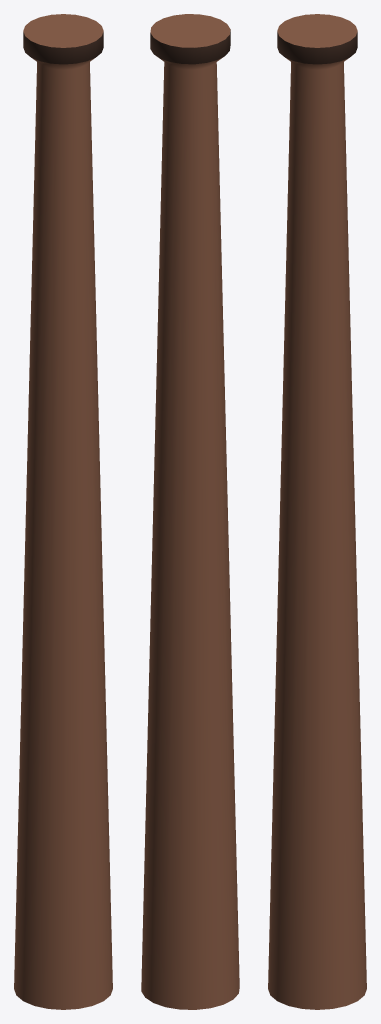
Rendered from vapor4.fbx.
3 views of the same model, side by side, from view 1: azimuth 90°, elevation 25°; view 2: azimuth 150°, elevation 25°; view 3: azimuth 270°, elevation 25° (orthographic).
Parts seen in each view (by area): view 1: pCylinder12; view 2: pCylinder12; view 3: pCylinder12.
Part boxes in pixels (box(x1,y1,x2,y2)): pCylinder12: box(14, 14, 112, 1009); pCylinder12: box(141, 14, 239, 1009); pCylinder12: box(268, 14, 366, 1009).
Bounding box in the file's own units: 11.36 × 121 × 11.36.
